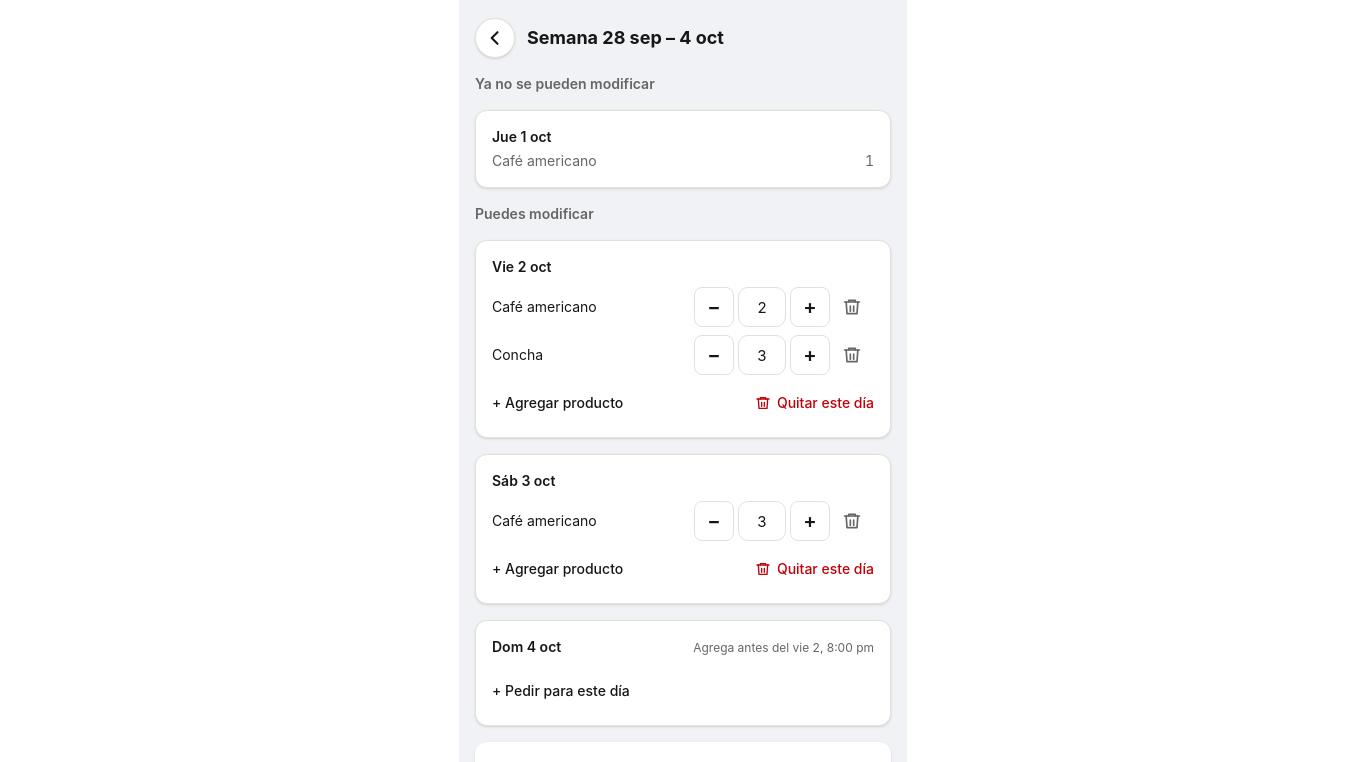
modificar pedido › quitar entrega: confirmación con el número de productos y piezas; Cancelar no quita nada
Click the button "Quitar este día" below "Concha" at (814, 403), box [755,393,874,413]
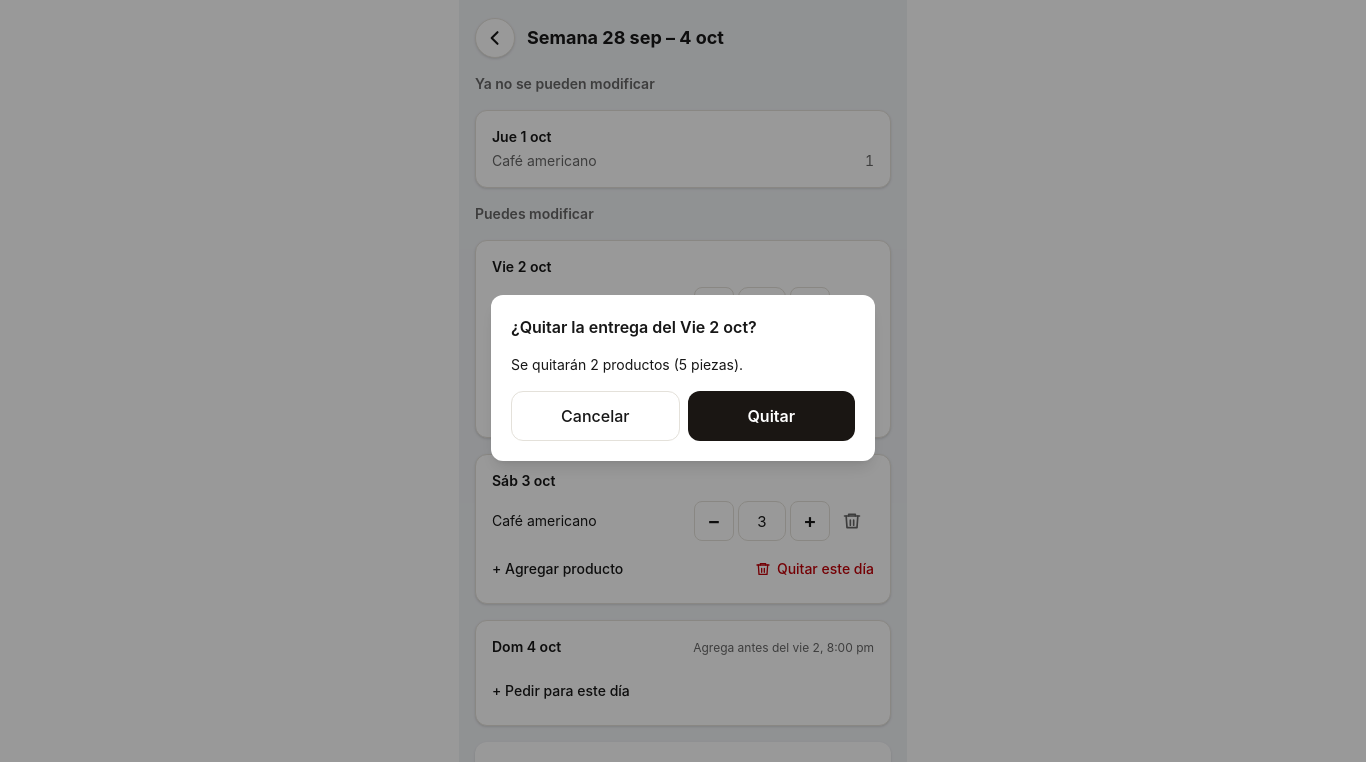
Check: the heading "¿Quitar la entrega del Vie 2 oct?" is shown, box [511,317,757,337]
Check: the text "Se quitarán 2 productos (5 piezas)." is shown, box [511,356,743,373]
Click the button "Cancelar" at (595, 416), box [511,391,680,441]
(page scrolled)
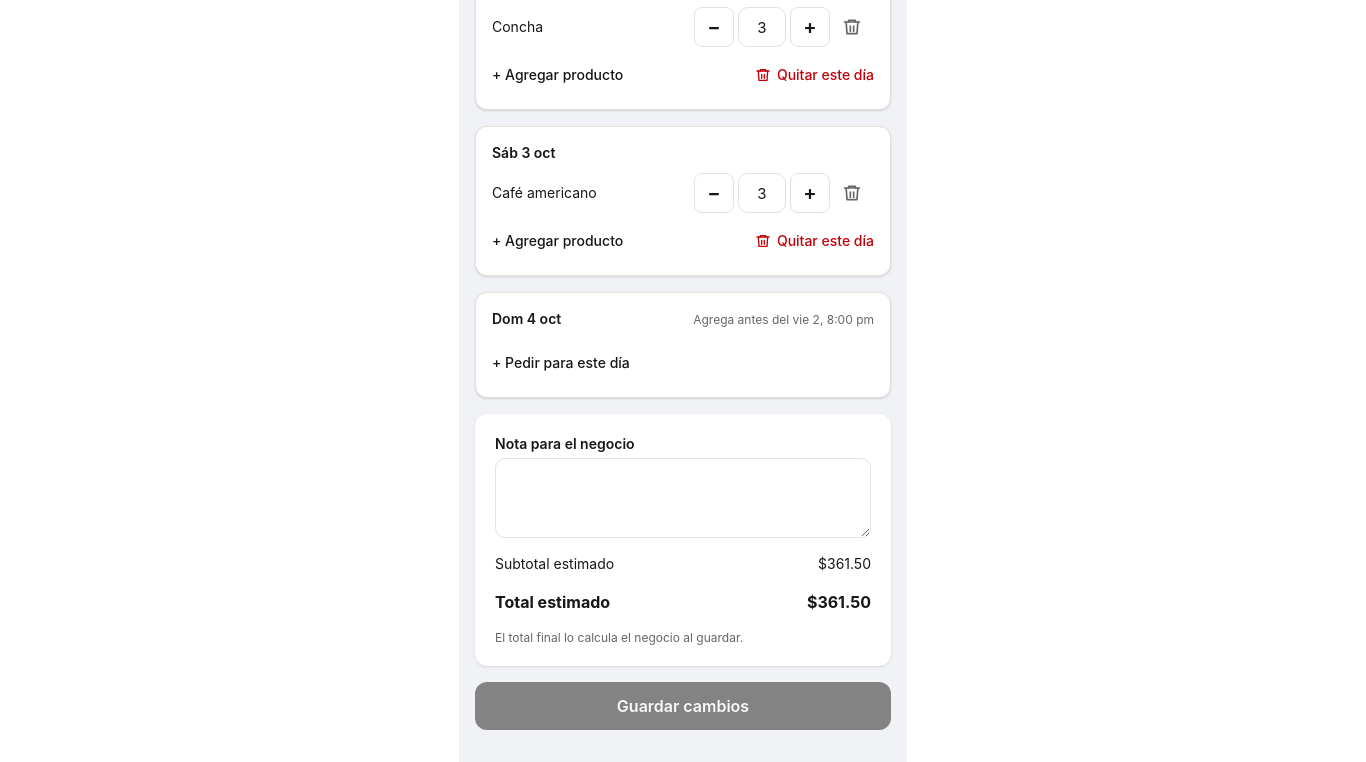
Check: the button "Guardar cambios" is disabled, box [475,682,891,730]
Check: the dialog is gone
